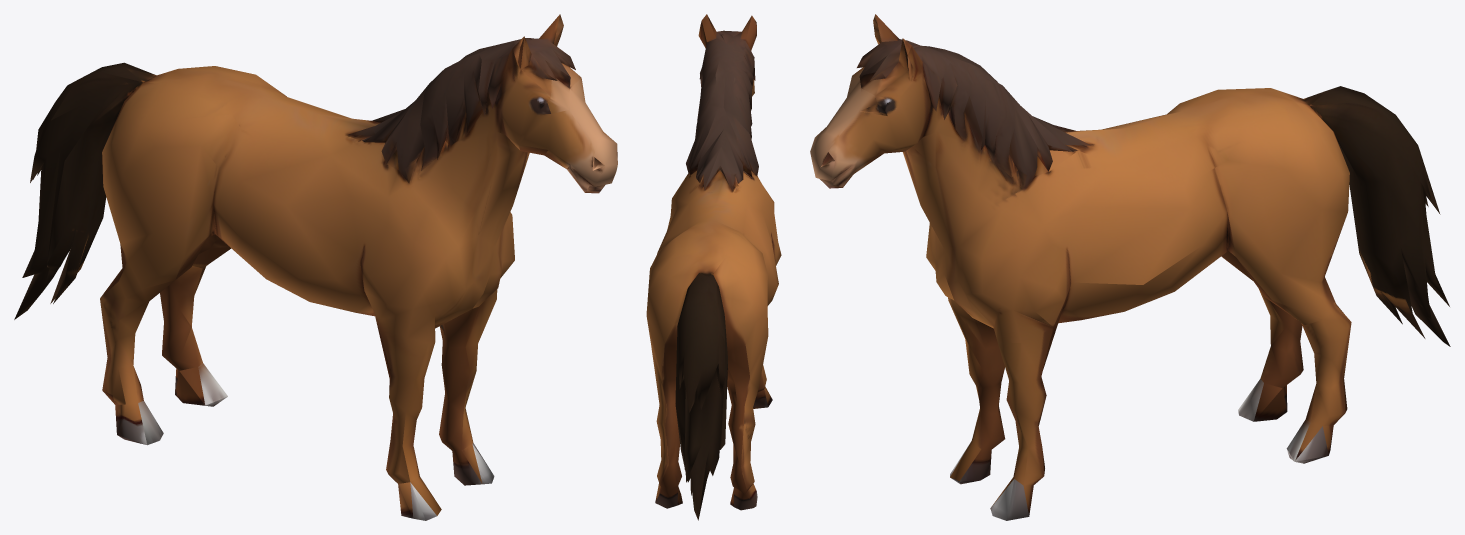
File: CaballoP.glb
3 views of the same model, side by side, from view 1: azimuth 30°, elevation 25°; view 2: azimuth 150°, elevation 25°; view 3: azimuth 270°, elevation 25° (orthographic). The views are drawn at different scales.
Visible parts, largest first — view 1: mesh_rep_0_ori_repair_quad.003; view 2: mesh_rep_0_ori_repair_quad.003; view 3: mesh_rep_0_ori_repair_quad.003.
Part boxes in pixels (bbox=[...]): mesh_rep_0_ori_repair_quad.003: bbox=[14, 14, 617, 520]; mesh_rep_0_ori_repair_quad.003: bbox=[646, 14, 781, 520]; mesh_rep_0_ori_repair_quad.003: bbox=[810, 14, 1450, 520].
Size of the model in its own units: 0.4375 by 0.7079 by 0.8359.
Materials: 1 (1 with a texture image).
